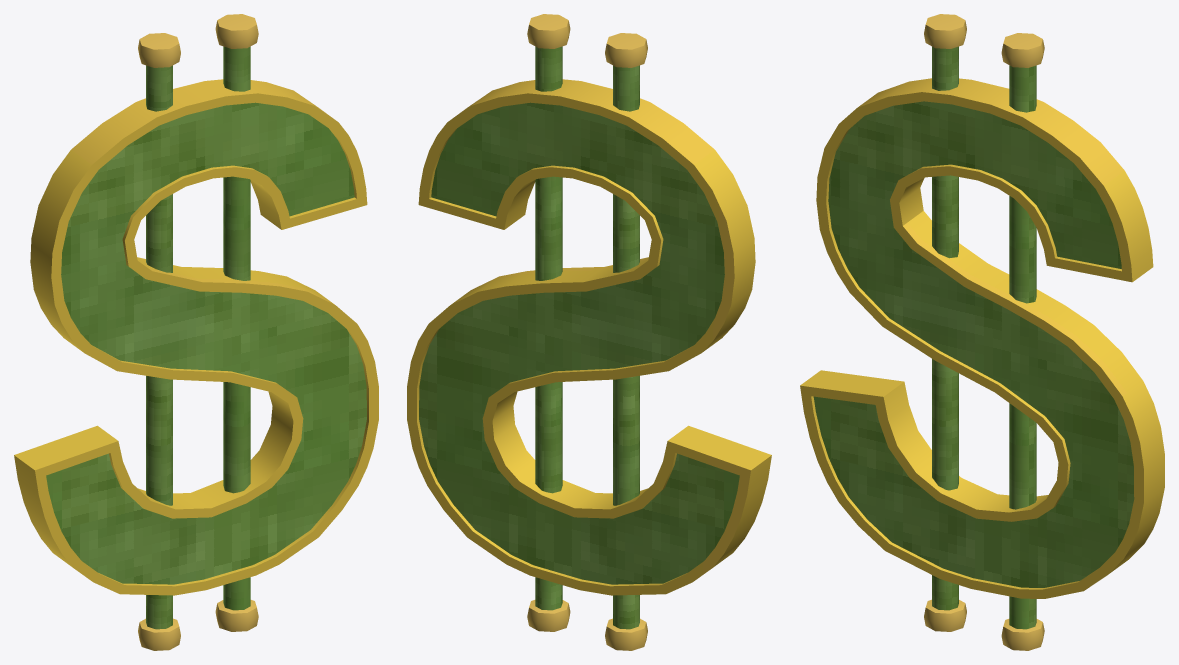
File: low_poly_dollar_symbol.glb
3 renders of one model, left to right at view 1: azimuth 30°, elevation 25°; view 2: azimuth 150°, elevation 25°; view 3: azimuth 330°, elevation 25°, orthographic.
Visible parts, largest first — view 1: S_green_0, II_buttons_metal_pallet_0; view 2: S_green_0, II_buttons_metal_pallet_0; view 3: S_green_0, II_buttons_metal_pallet_0.
Part boxes in pixels (x1,y1,x2,y2): S_green_0: [46, 46, 366, 629]; II_buttons_metal_pallet_0: [14, 14, 378, 650]; S_green_0: [419, 46, 739, 629]; II_buttons_metal_pallet_0: [407, 14, 771, 650]; S_green_0: [813, 46, 1134, 629]; II_buttons_metal_pallet_0: [800, 14, 1164, 650].
Size of the model in its own units: 0.3842 by 0.6429 by 0.0433.
2 materials, 2 textured.
